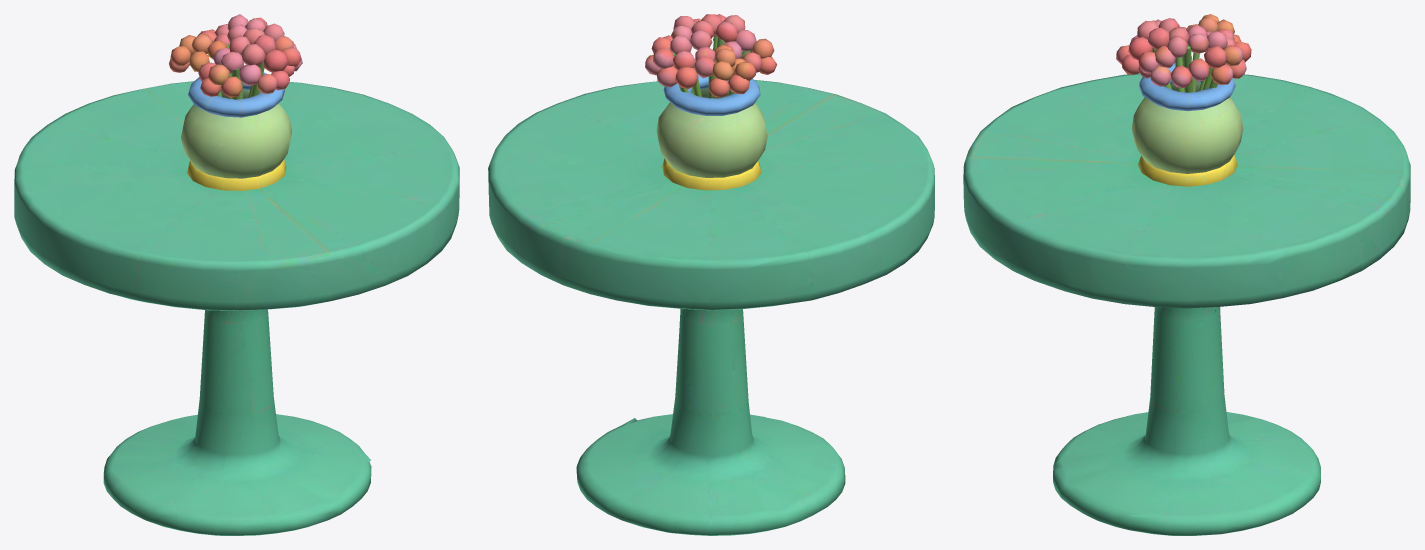
The model's file is coffee-table.glb.
3 renders of one model, left to right at view 1: azimuth 30°, elevation 25°; view 2: azimuth 150°, elevation 25°; view 3: azimuth 270°, elevation 25°, orthographic.
Visible parts, largest first — view 1: geometry_0; view 2: geometry_0; view 3: geometry_0.
Part boxes in pixels (x1=…): geometry_0: x1=14, y1=14, x2=459, y2=535; geometry_0: x1=488, y1=14, x2=934, y2=535; geometry_0: x1=963, y1=14, x2=1410, y2=535.
Size of the model in its own units: 0.8965 by 0.9992 by 0.8812.
Materials: 1 (1 with a texture image).
